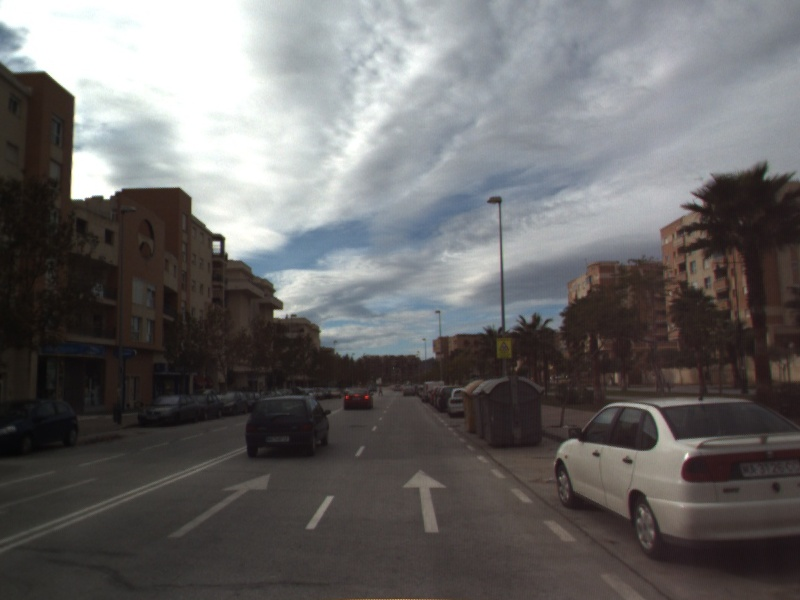STRAIGHT: (165, 471, 273, 540), (400, 468, 449, 535)
